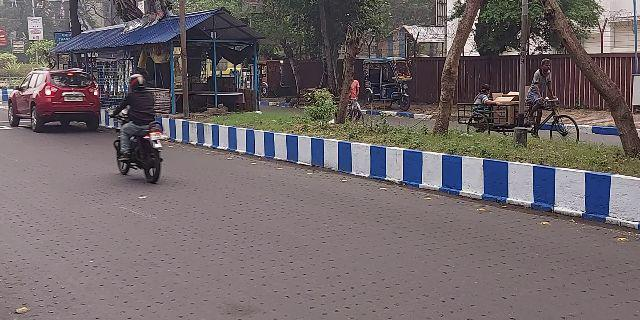Car: (5, 65, 102, 132)
Motorbike: (113, 72, 174, 191)
